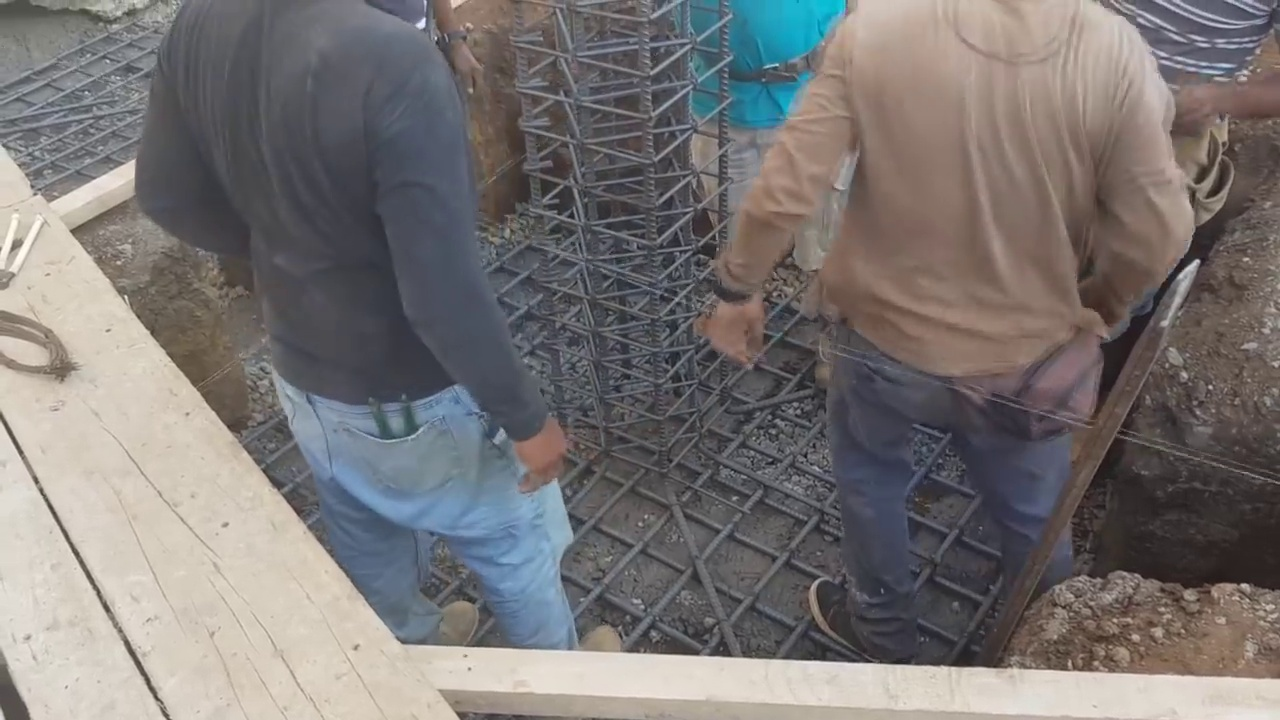person: (697, 5, 1189, 653), (133, 0, 574, 652), (679, 0, 893, 285), (1109, 2, 1280, 253)
